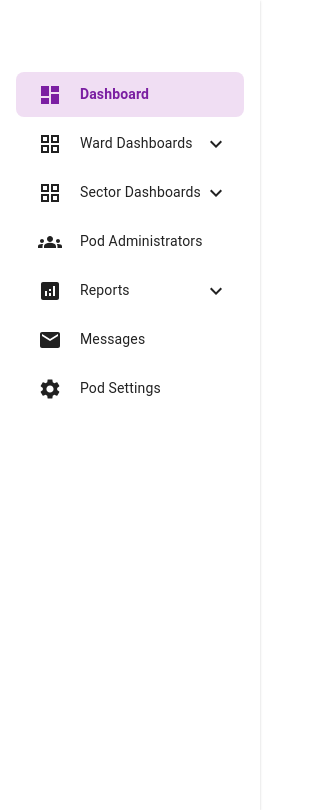
it: Sidebar › submenu behavior › should expand submenu when clicking on parent item
This screenshot has width=320, height=810.
Check: the text "Ward North" is not shown
Click to expand
Click the button "Ward Dashboards": (133, 144) x1=38 y1=132 x2=228 y2=156
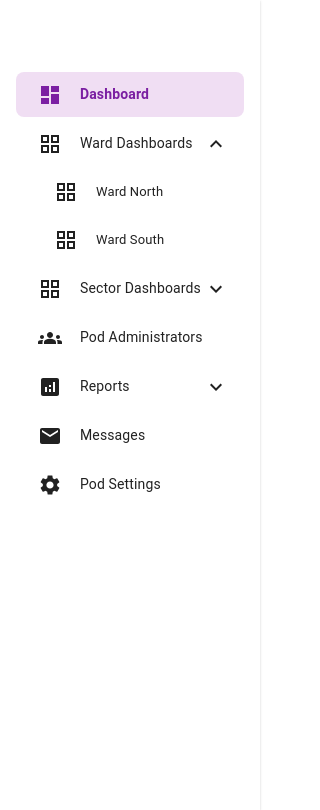
Check: the text "Ward North" is shown, box x1=96 y1=184 x2=163 y2=199
Check: the text "Ward South" is shown, box x1=96 y1=232 x2=164 y2=247
